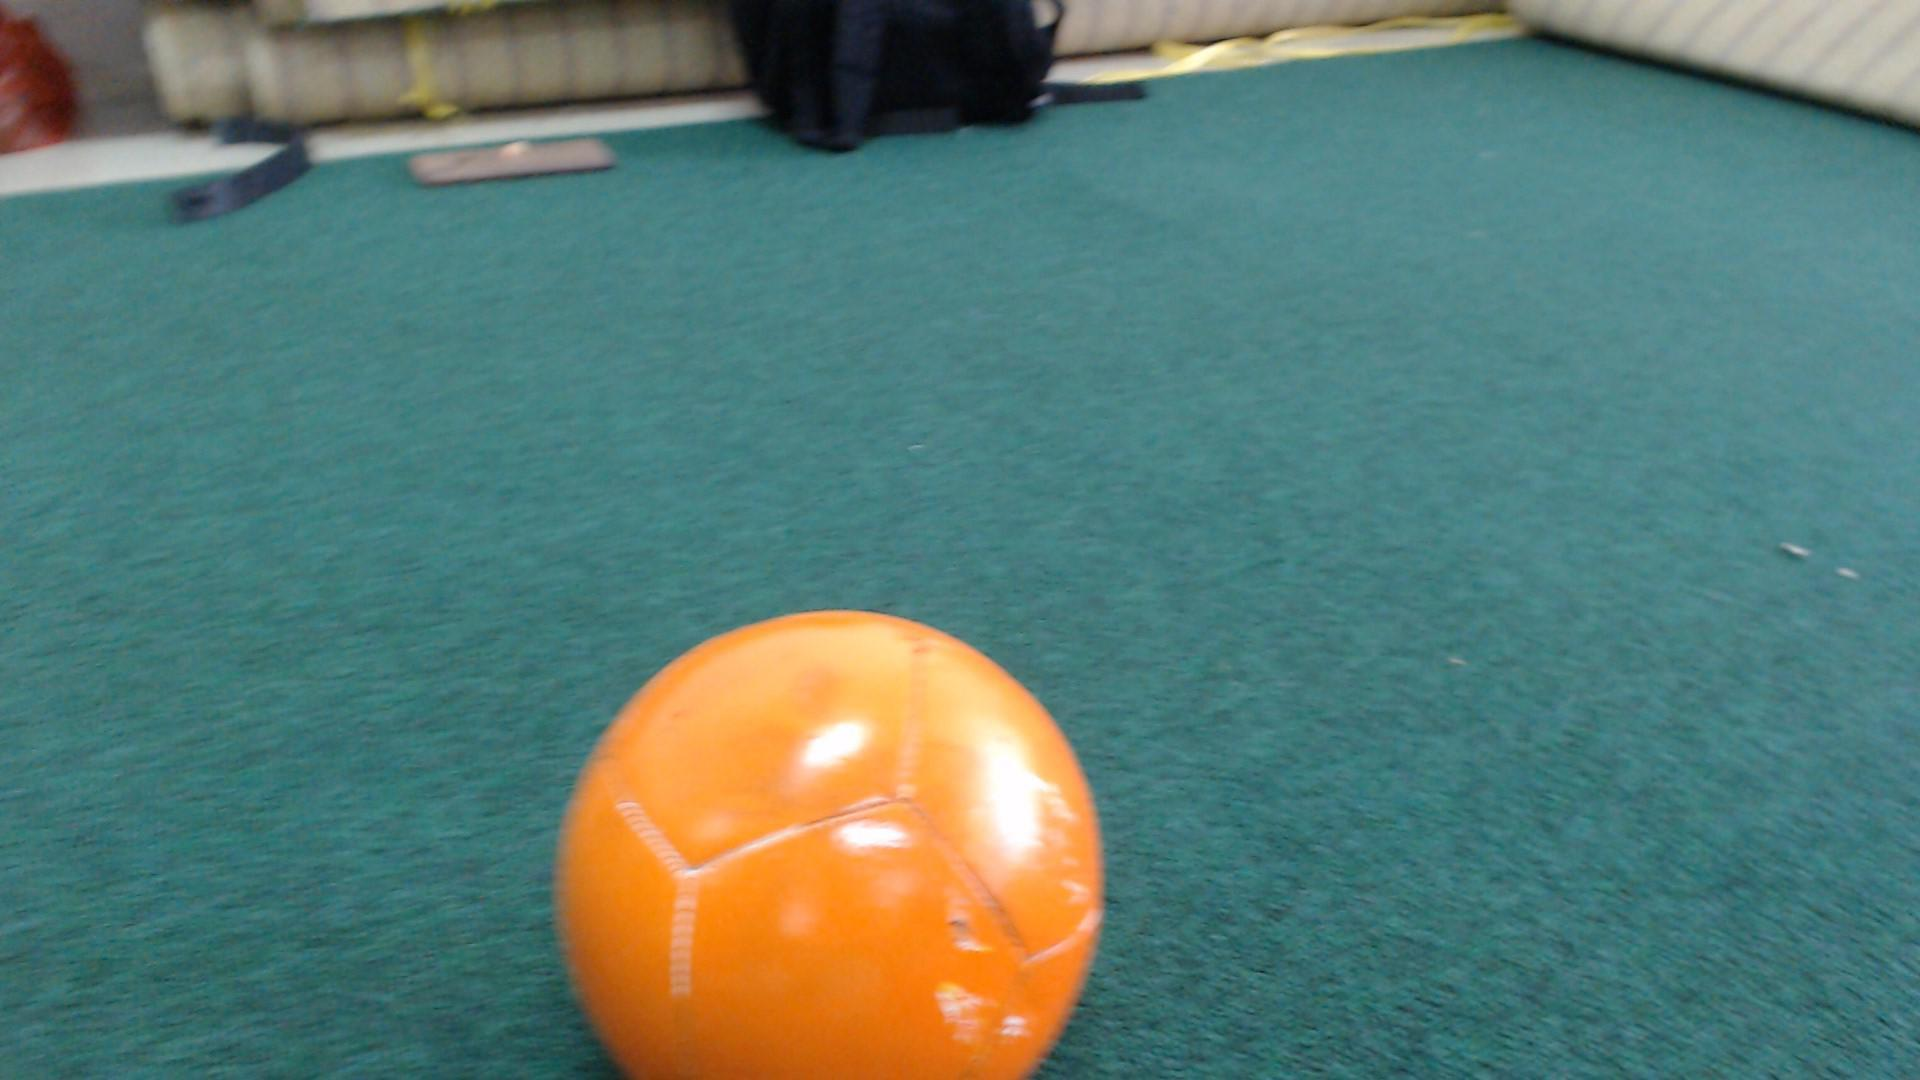bola: (501, 589, 1176, 1080)
